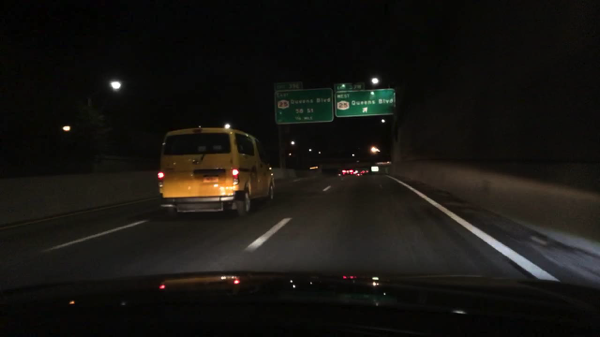car: (155, 126, 275, 218), (341, 170, 353, 176)
traffic sign: (273, 89, 334, 125), (333, 87, 396, 117), (332, 82, 367, 92), (273, 82, 304, 90), (371, 167, 379, 172)
